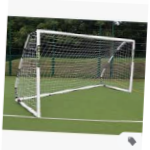goals: (15, 26, 138, 119)
